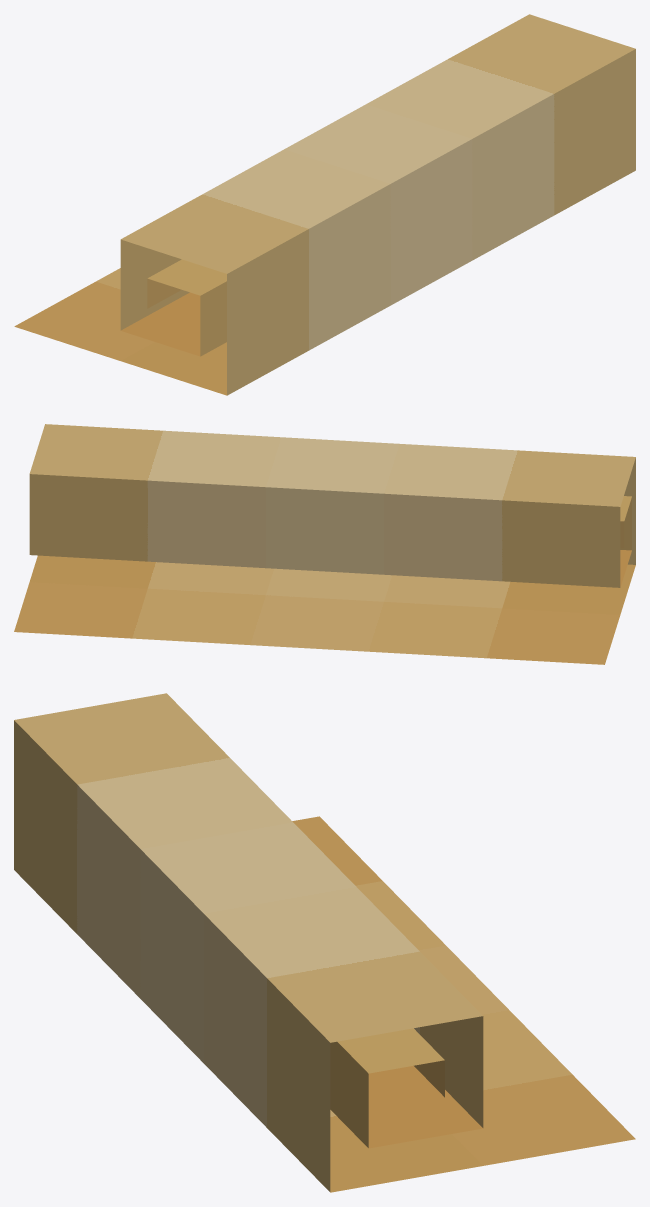
File: station_affinitytinkerer_scroll.obj
3 views of the same model, one above another, from view 1: azimuth 30°, elevation 25°; view 2: azimuth 150°, elevation 25°; view 3: azimuth 270°, elevation 25° (orthographic). The views are drawn at different scales.
Visible parts, largest first — view 1: AFFINITYTINKERER_SCROLL_Cube.009; view 2: AFFINITYTINKERER_SCROLL_Cube.009; view 3: AFFINITYTINKERER_SCROLL_Cube.009.
Boxes of the visible parts, x1=… form: AFFINITYTINKERER_SCROLL_Cube.009: x1=14, y1=14, x2=635, y2=395; AFFINITYTINKERER_SCROLL_Cube.009: x1=14, y1=424, x2=635, y2=664; AFFINITYTINKERER_SCROLL_Cube.009: x1=14, y1=693, x2=635, y2=1192.
Size of the model in its own units: 0.3365 by 0.0625 by 0.2351.
